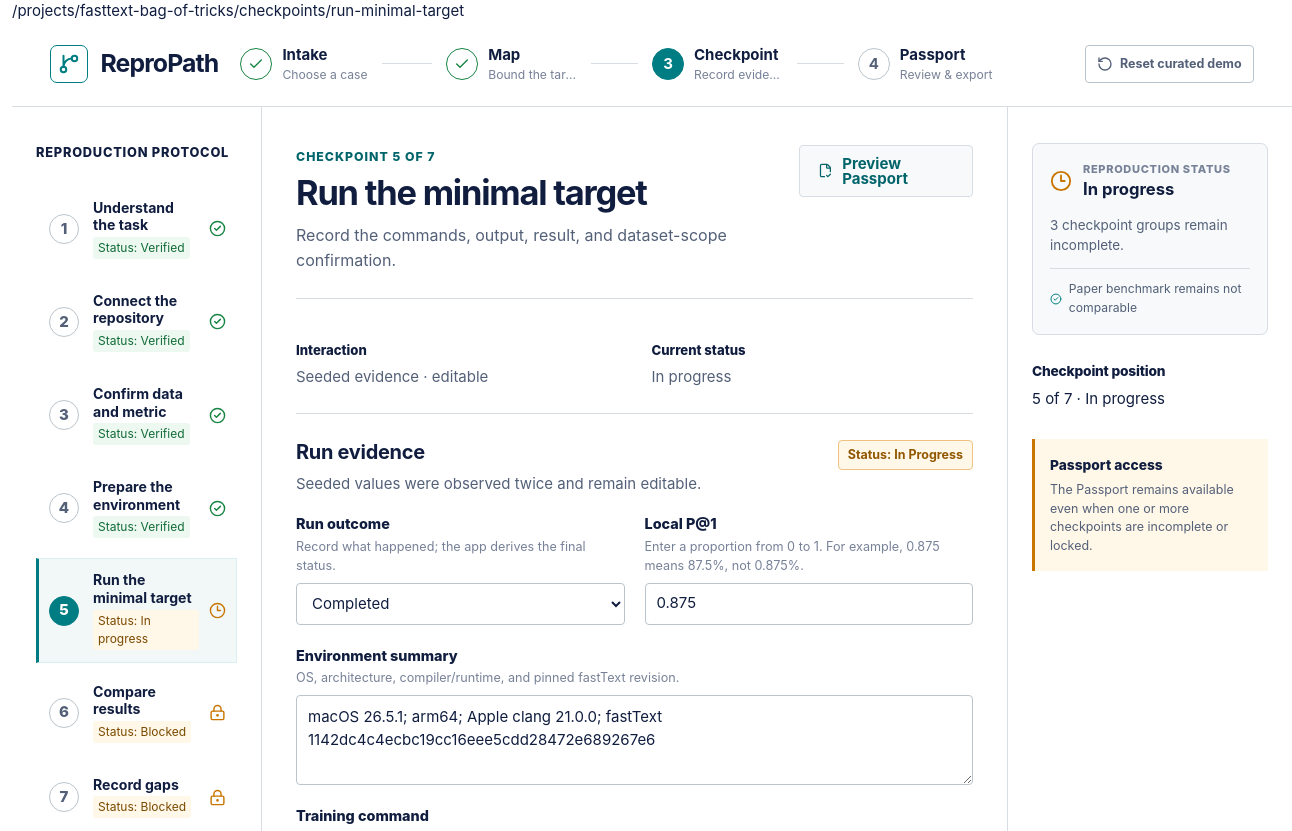
full protocol workspace › keeps Passport preview accessible with incomplete checkpoints
What coordinates should you click on to do the following:
click the link "Preview Passport"
I would click on:
 (886, 171)
Its box is [799,144,973,197].
(page scrolled)
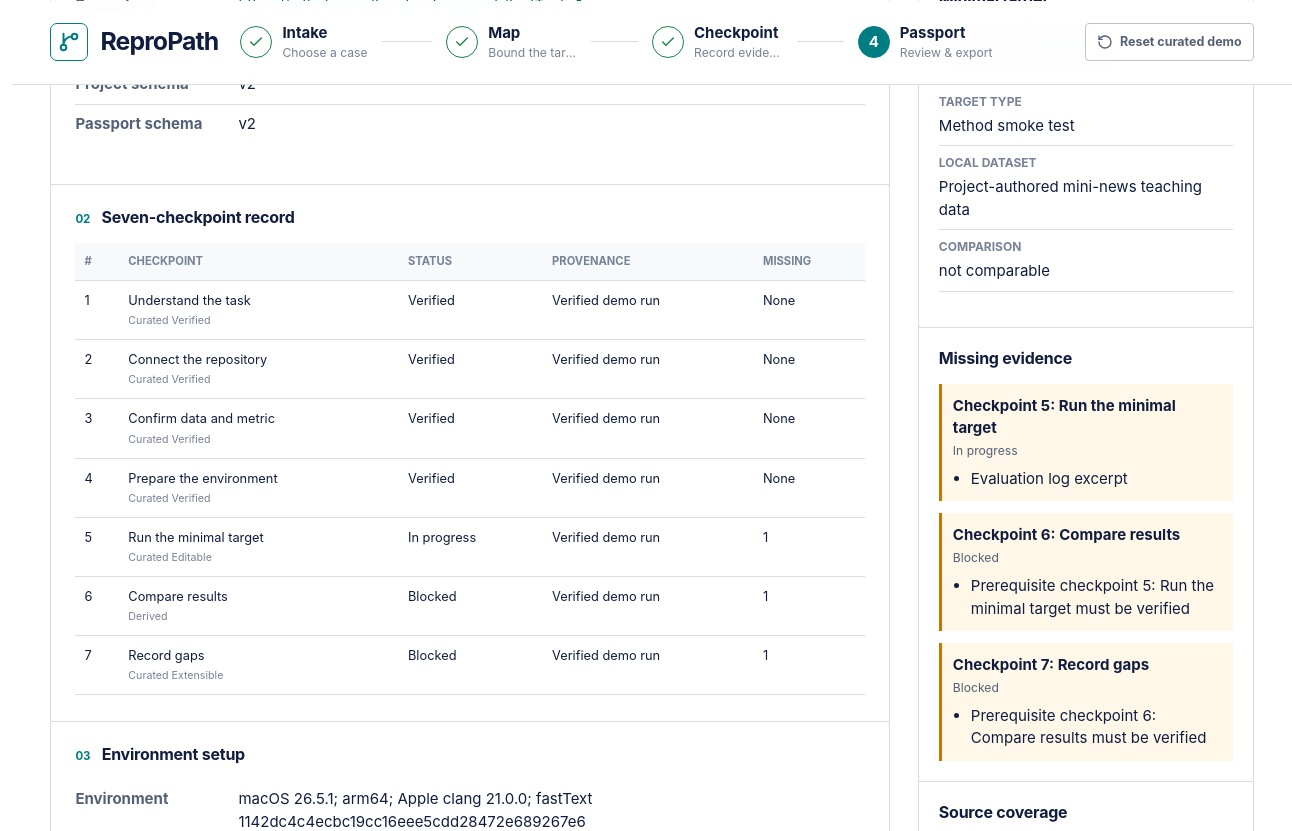
Expected: the text "In progress" is shown, [953,443,1018,458]
Expected: the text "Checkpoint 5: Run the minimal target" is shown, [953,396,1176,437]
